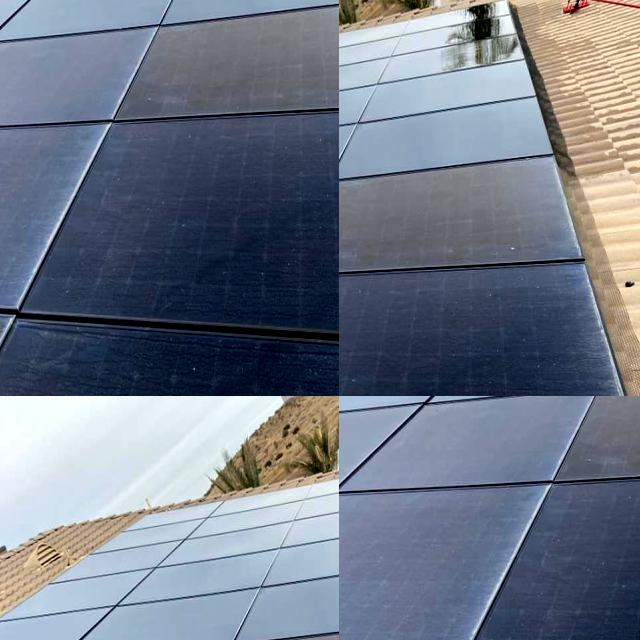dust: (339, 511, 480, 635), (558, 484, 640, 640), (421, 396, 554, 492)
shadow: (339, 0, 390, 109)
